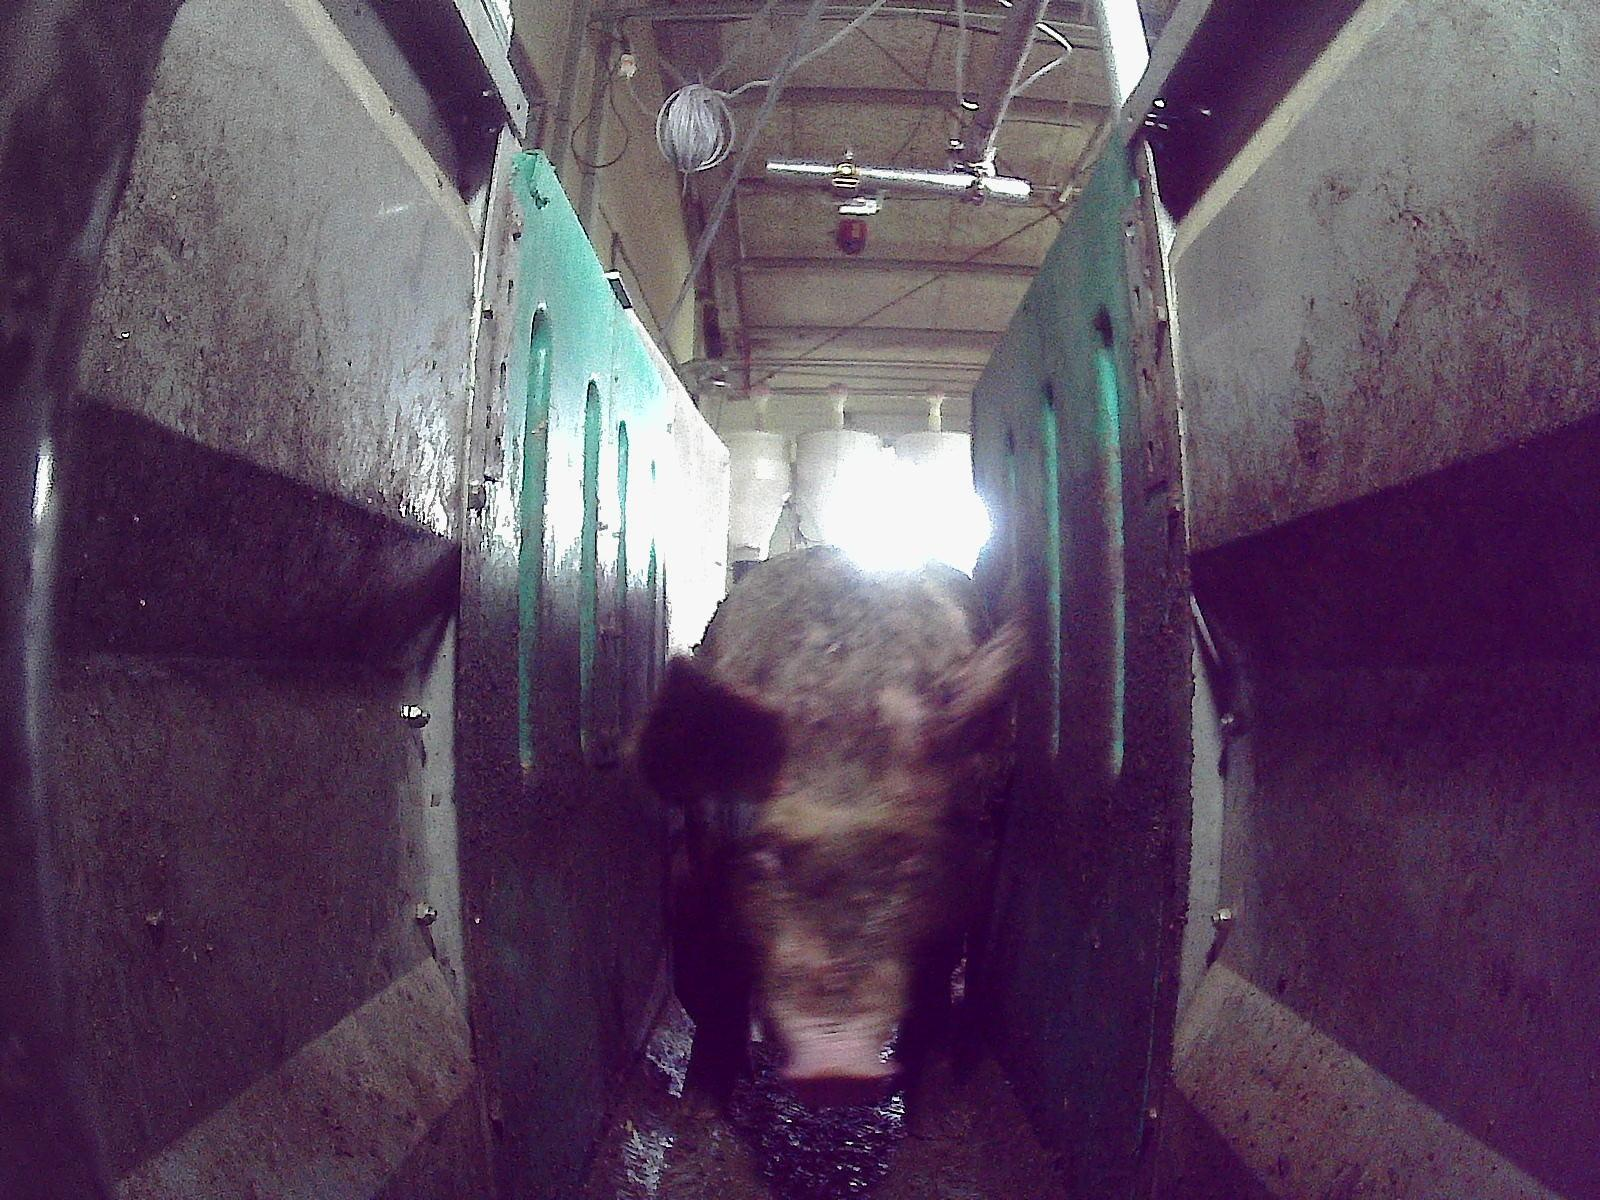Face: (715, 729, 953, 1106)
